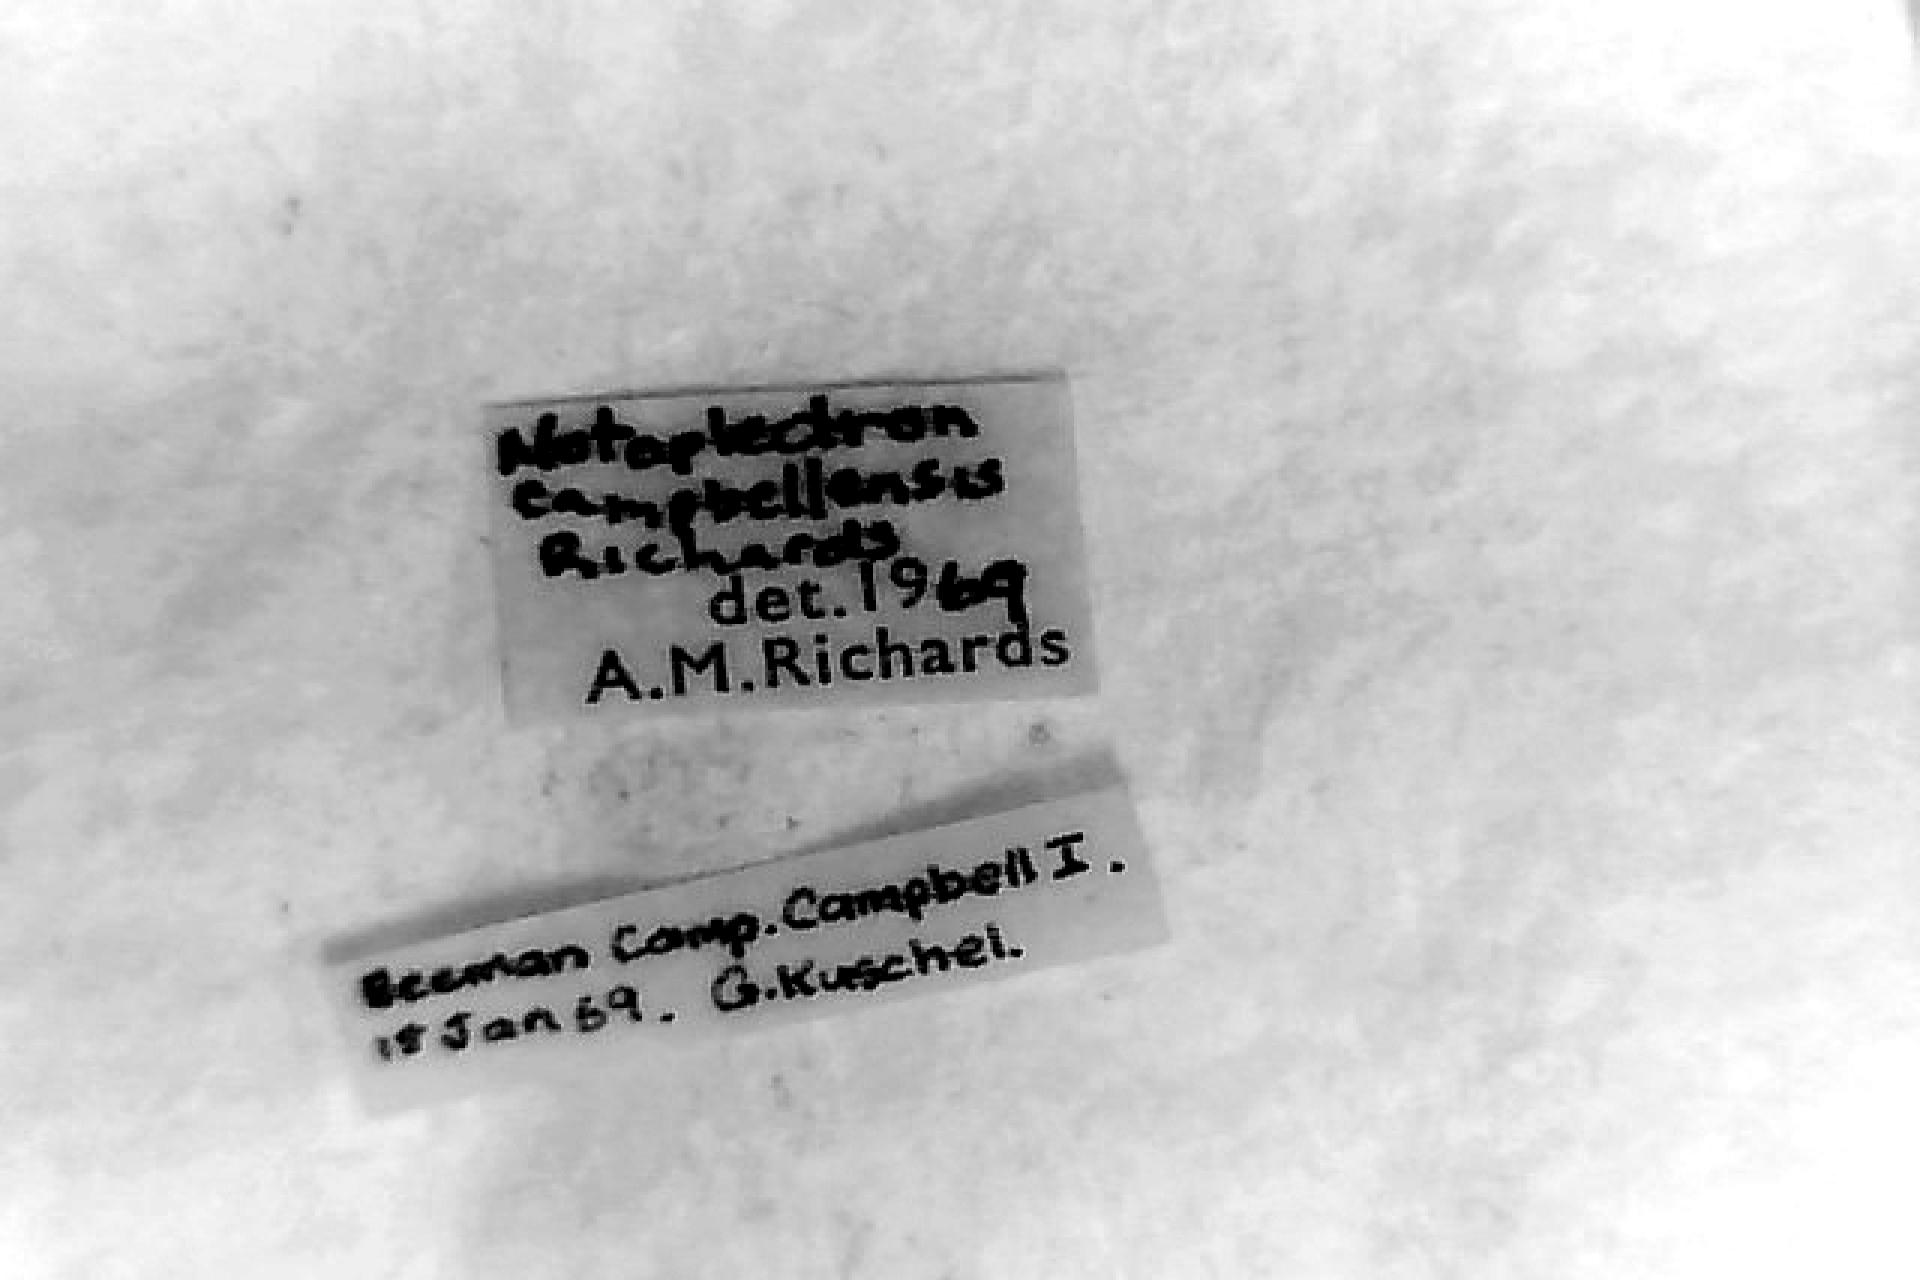hand_label: (330, 783, 1166, 1107)
mixed_label: (491, 379, 1093, 719)
